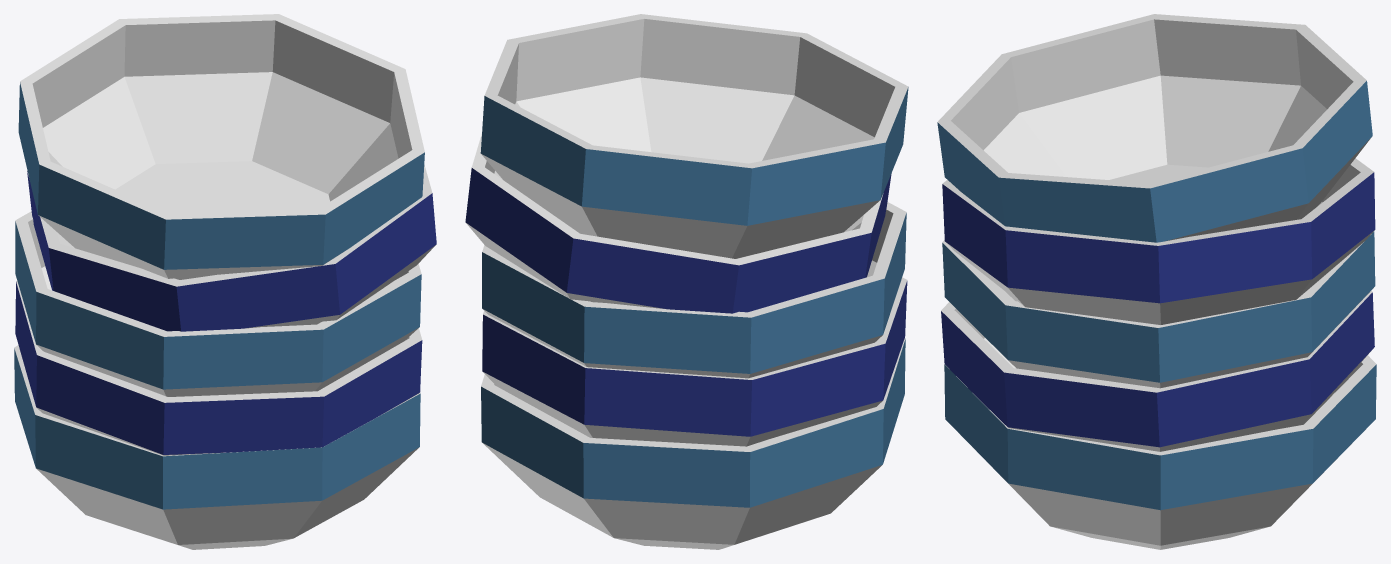
File: R_Bowls.fbx
The picture shows the model from 3 angles, left to right: view 1: azimuth 30°, elevation 25°; view 2: azimuth 150°, elevation 25°; view 3: azimuth 270°, elevation 25°; orthographic projection. The views are drawn at different scales.
Visible parts, largest first — view 1: R_Bowls; view 2: R_Bowls; view 3: R_Bowls.
Part boxes in pixels (<box>): R_Bowls: <box>14,14,436,549</box>; R_Bowls: <box>465,14,908,549</box>; R_Bowls: <box>937,14,1376,549</box>.
Size of the model in its own units: 160 by 156 by 169.
